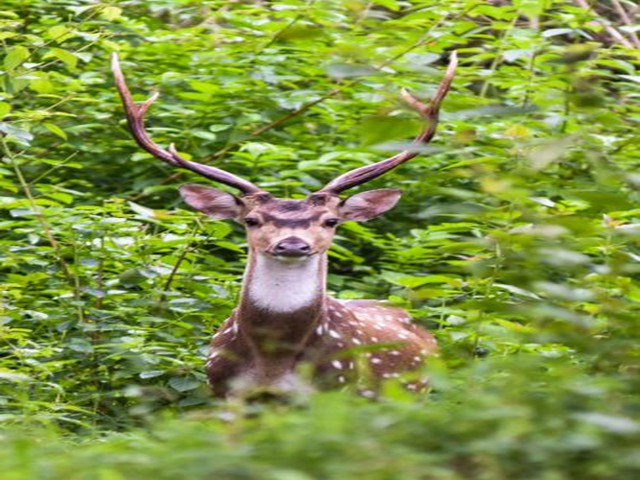deer: (107, 48, 472, 389)
